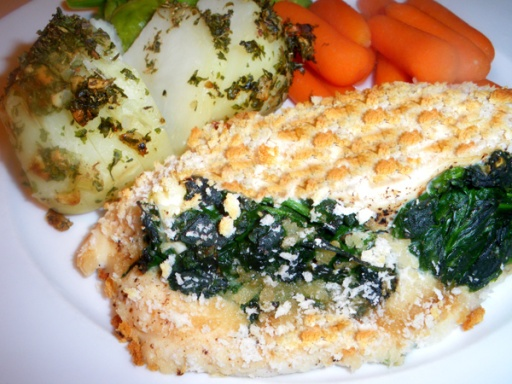background: (0, 0, 410, 228)
